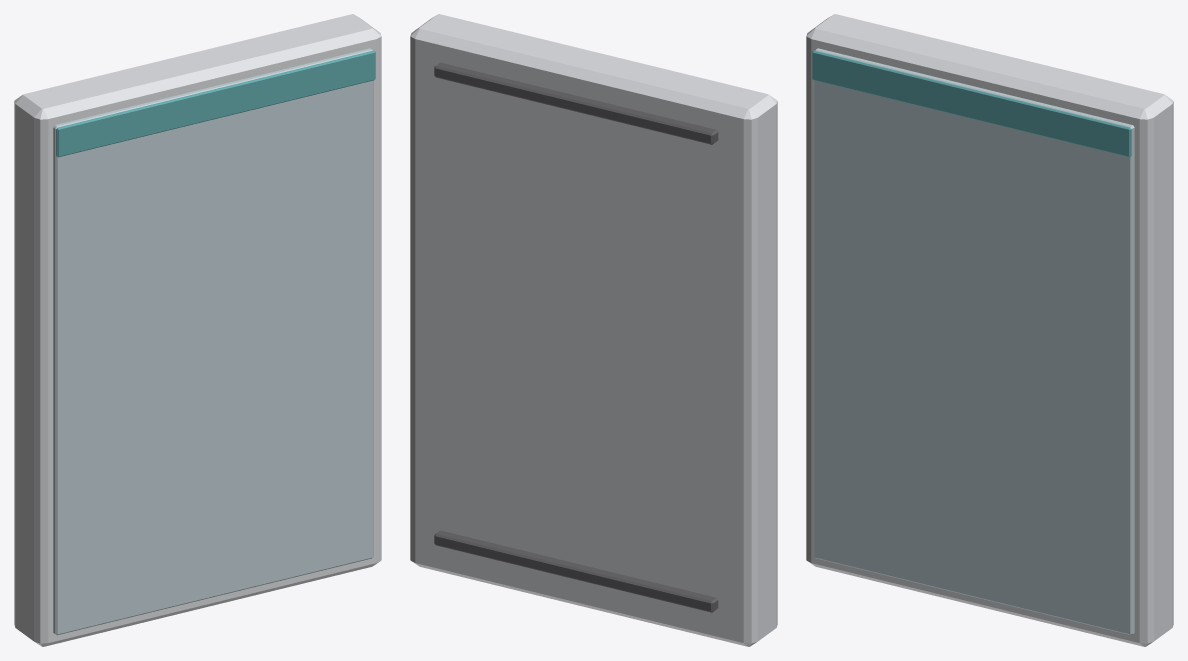
File: fast-food-and-drive-thru-promotional-light-box-2ae01636__16126.glb
3 renders of one model, left to right at view 1: azimuth 30°, elevation 25°; view 2: azimuth 150°, elevation 25°; view 3: azimuth 330°, elevation 25°, orthographic.
Visible parts, largest first — view 1: promotional-light-box; view 2: promotional-light-box; view 3: promotional-light-box.
Part boxes in pixels (<box>): promotional-light-box: <box>14,14,381,646</box>; promotional-light-box: <box>410,14,777,646</box>; promotional-light-box: <box>806,14,1173,646</box>.
Bounding box in the file's own units: 0.62 × 0.92 × 0.124.
